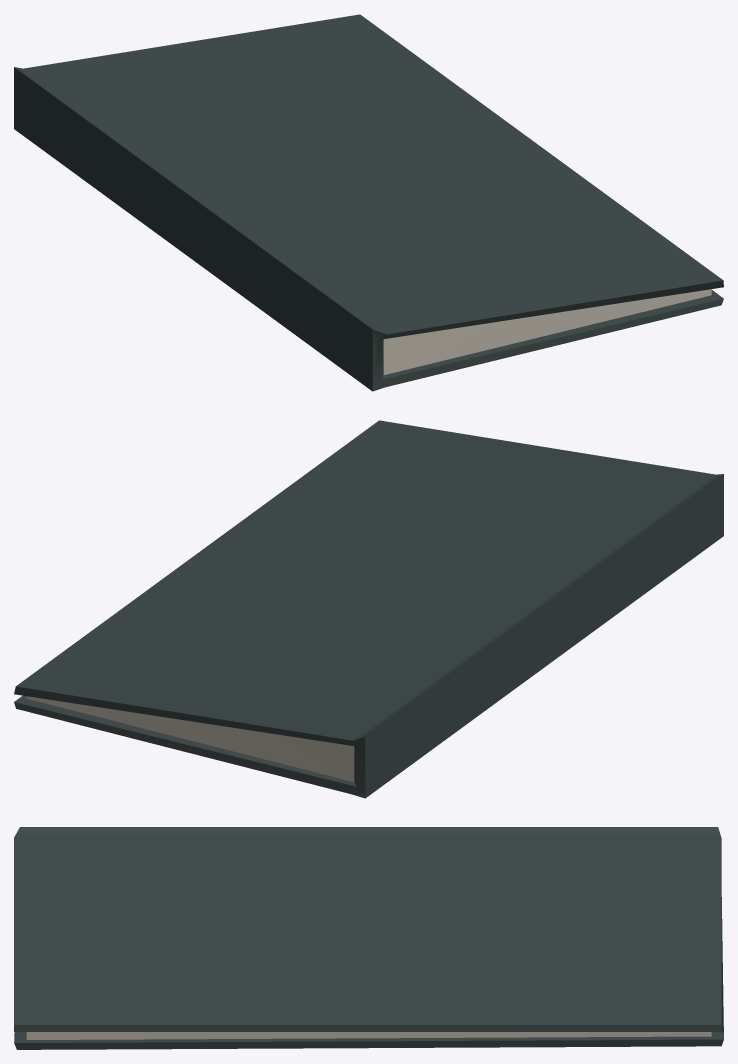
File: Book_1.fbx
The picture shows the model from 3 angles, top to bottom: view 1: azimuth 30°, elevation 25°; view 2: azimuth 150°, elevation 25°; view 3: azimuth 270°, elevation 25°; orthographic projection. The views are drawn at different scales.
Parts seen in each view (by area): view 1: pCube2; view 2: pCube2; view 3: pCube2.
Part boxes in pixels (x1,y1,x2,y2): pCube2: [14, 14, 723, 391]; pCube2: [14, 420, 723, 798]; pCube2: [14, 827, 723, 1049].
Size of the model in its own units: 1.13 by 0.1917 by 2.04.
1 material, 1 textured.
